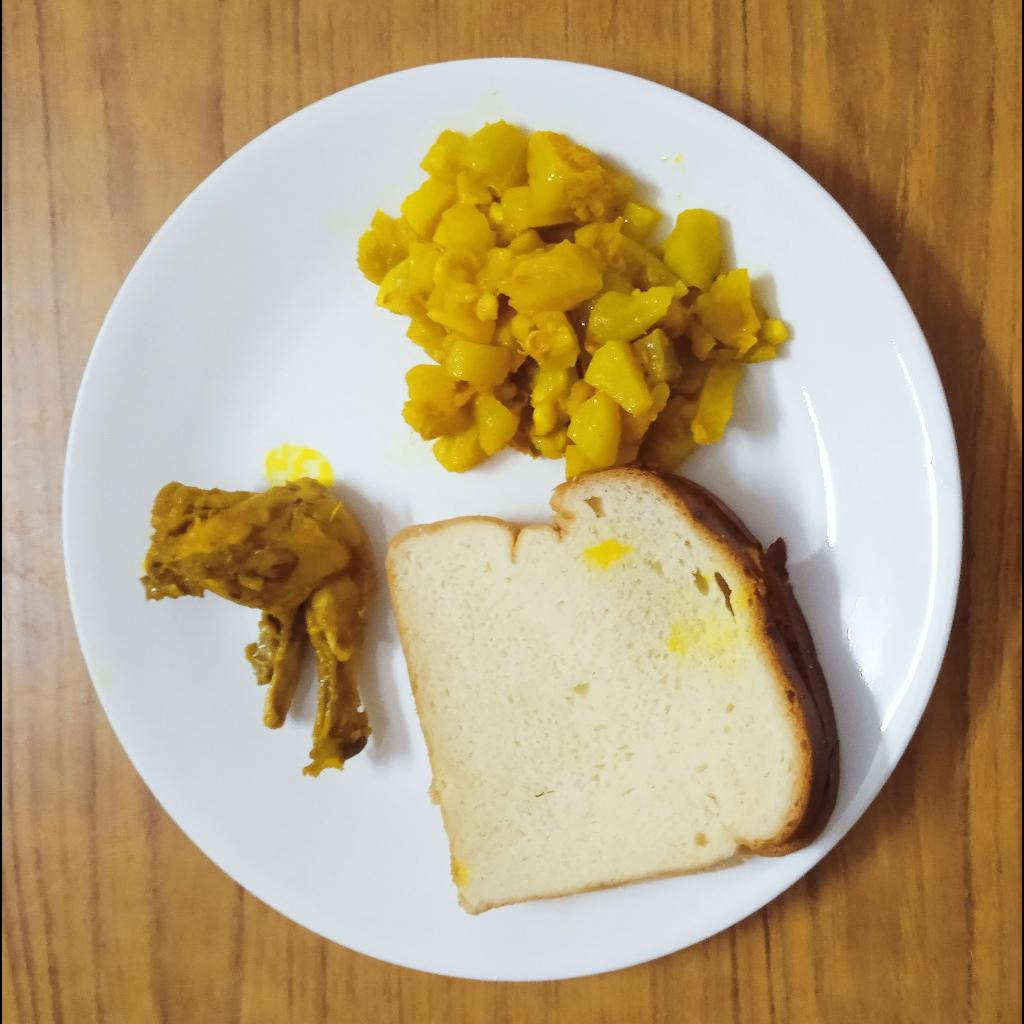bread: (385, 469, 841, 917)
chicken: (138, 472, 379, 774)
lau: (358, 119, 787, 474)
